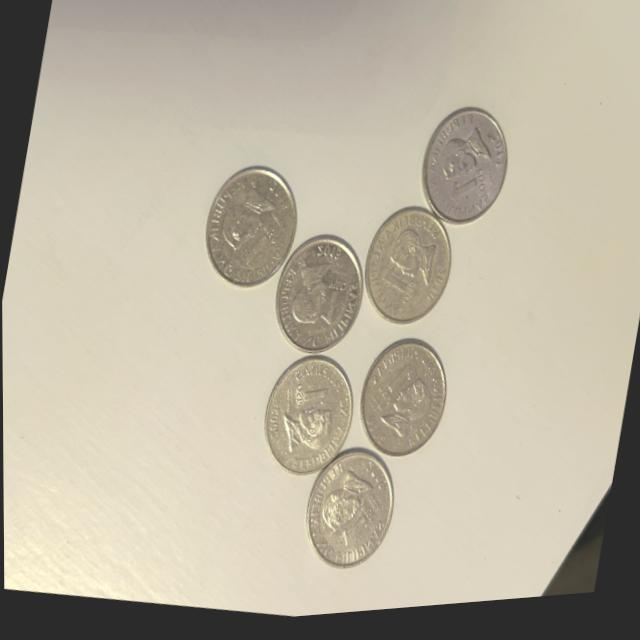1_Old_Front: (372, 360, 416, 418), (236, 222, 280, 278), (335, 503, 376, 563), (376, 271, 421, 321), (282, 381, 332, 422), (311, 287, 346, 342), (438, 173, 485, 213)
